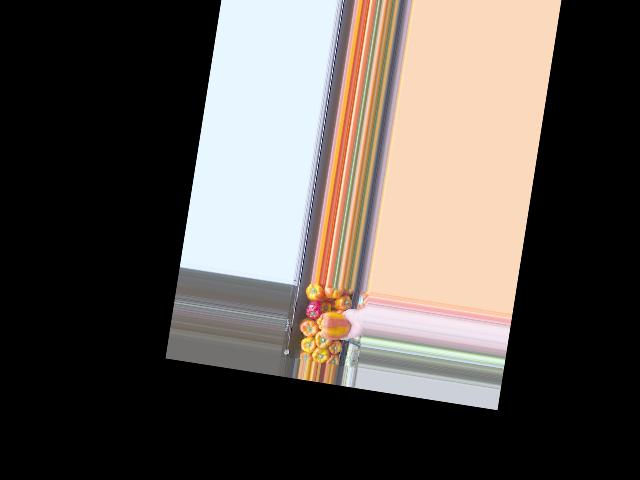bell_pepper: (333, 292, 350, 312)
